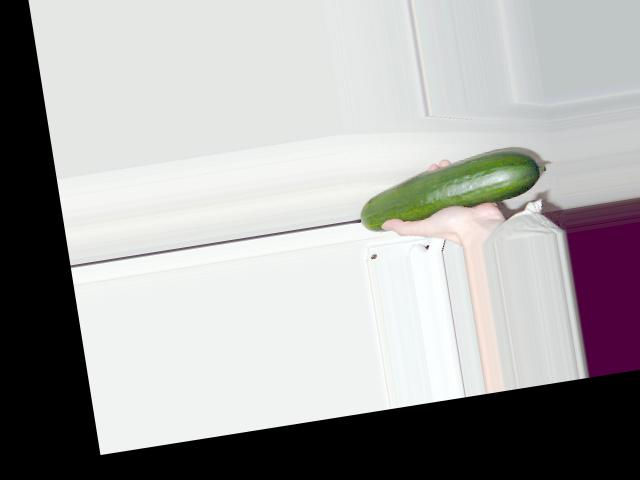cucumber: (353, 142, 551, 234)
